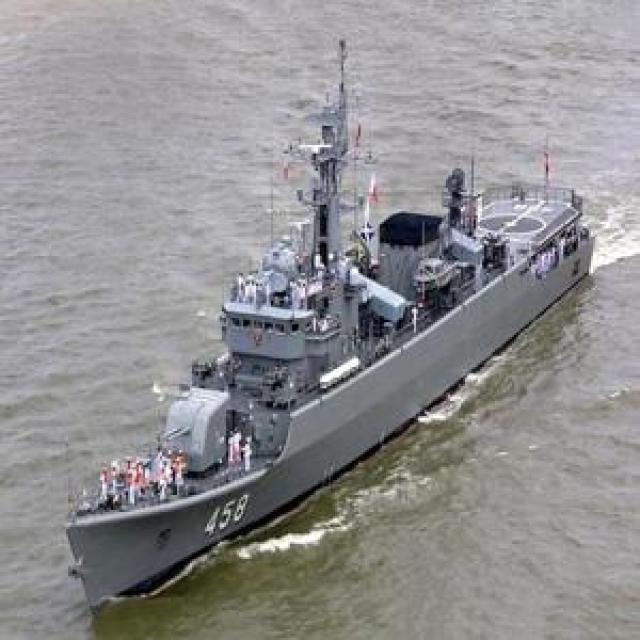navalvessels: (69, 37, 595, 607)
